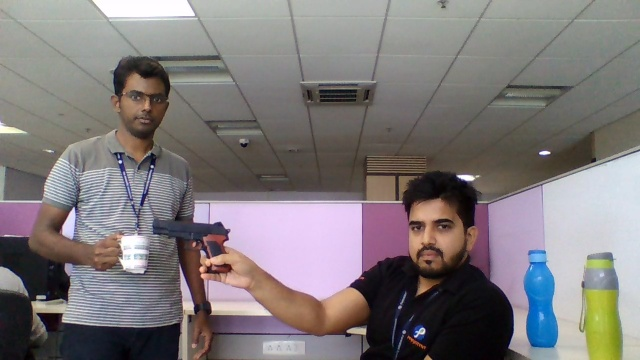gun: (149, 218, 233, 249)
